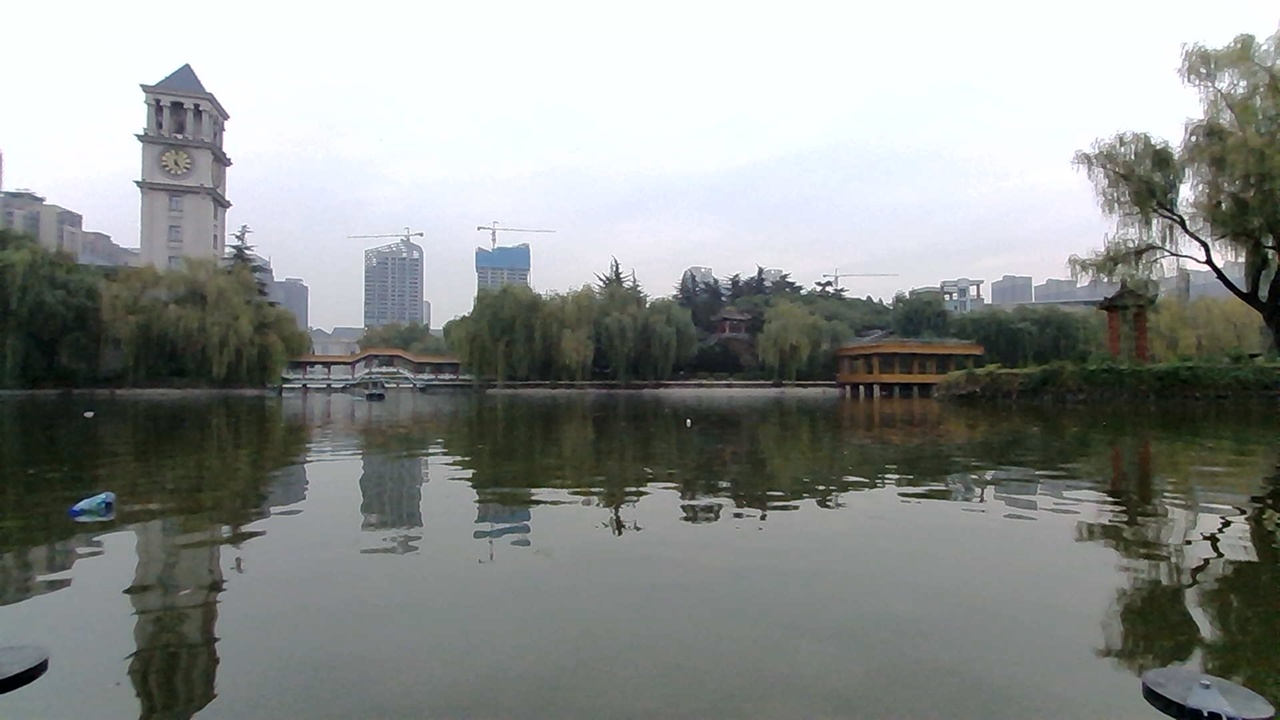bottle: (67, 488, 123, 525), (664, 405, 706, 434), (73, 401, 112, 426)
